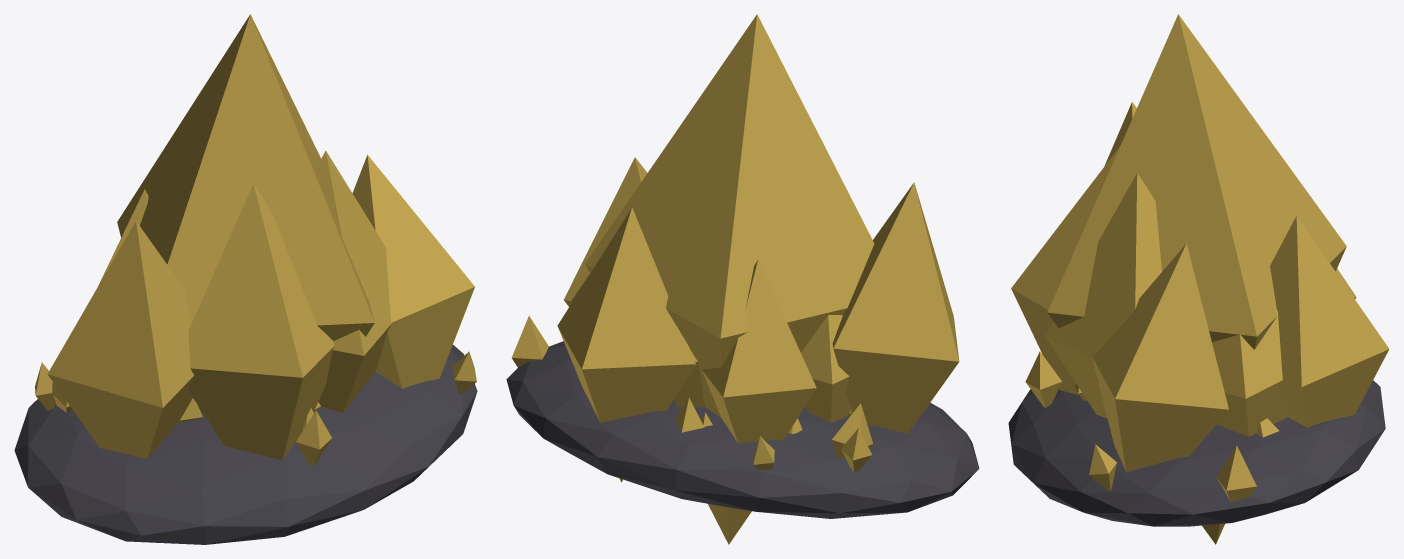
Rendered from chalcopyrite.glb.
3 renders of one model, left to right at view 1: azimuth 30°, elevation 25°; view 2: azimuth 150°, elevation 25°; view 3: azimuth 270°, elevation 25°, orthographic. The views are drawn at different scales.
Parts seen in each view (by area): view 1: Chalcopyrite; view 2: Chalcopyrite; view 3: Chalcopyrite.
Boxes of the visible parts, bbox=[...] form: Chalcopyrite: bbox=[14, 14, 477, 544]; Chalcopyrite: bbox=[506, 14, 979, 544]; Chalcopyrite: bbox=[1008, 14, 1389, 544].
Size of the model in its own units: 3.96 by 4.67 by 3.06.
